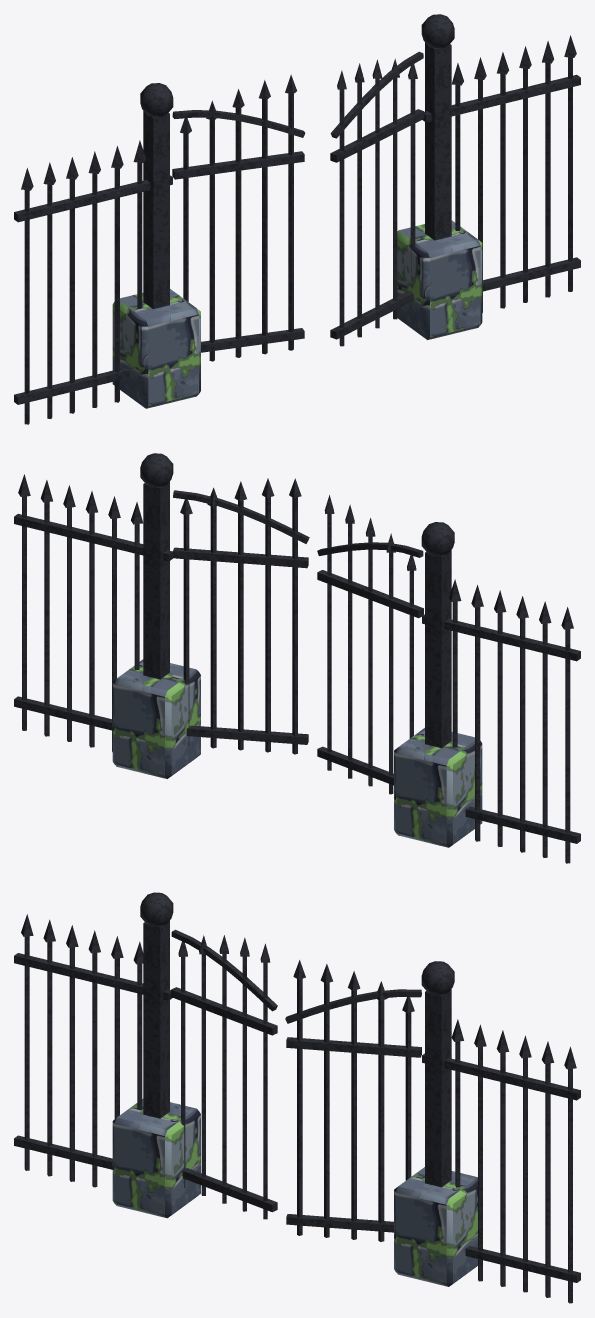
File: iron_fence_gate.glb
3 views of the same model, one above another, from view 1: azimuth 30°, elevation 25°; view 2: azimuth 150°, elevation 25°; view 3: azimuth 330°, elevation 25° (orthographic).
Parts seen in each view (by area): view 1: Fence; view 2: Fence; view 3: Fence.
Boxes of the visible parts, x1,y1,x2,y2 form: Fence: (14, 14, 580, 424); Fence: (14, 453, 580, 863); Fence: (14, 892, 580, 1303).
Size of the model in its own units: 4 by 2.09 by 0.5208.
2 materials, 2 textured.
